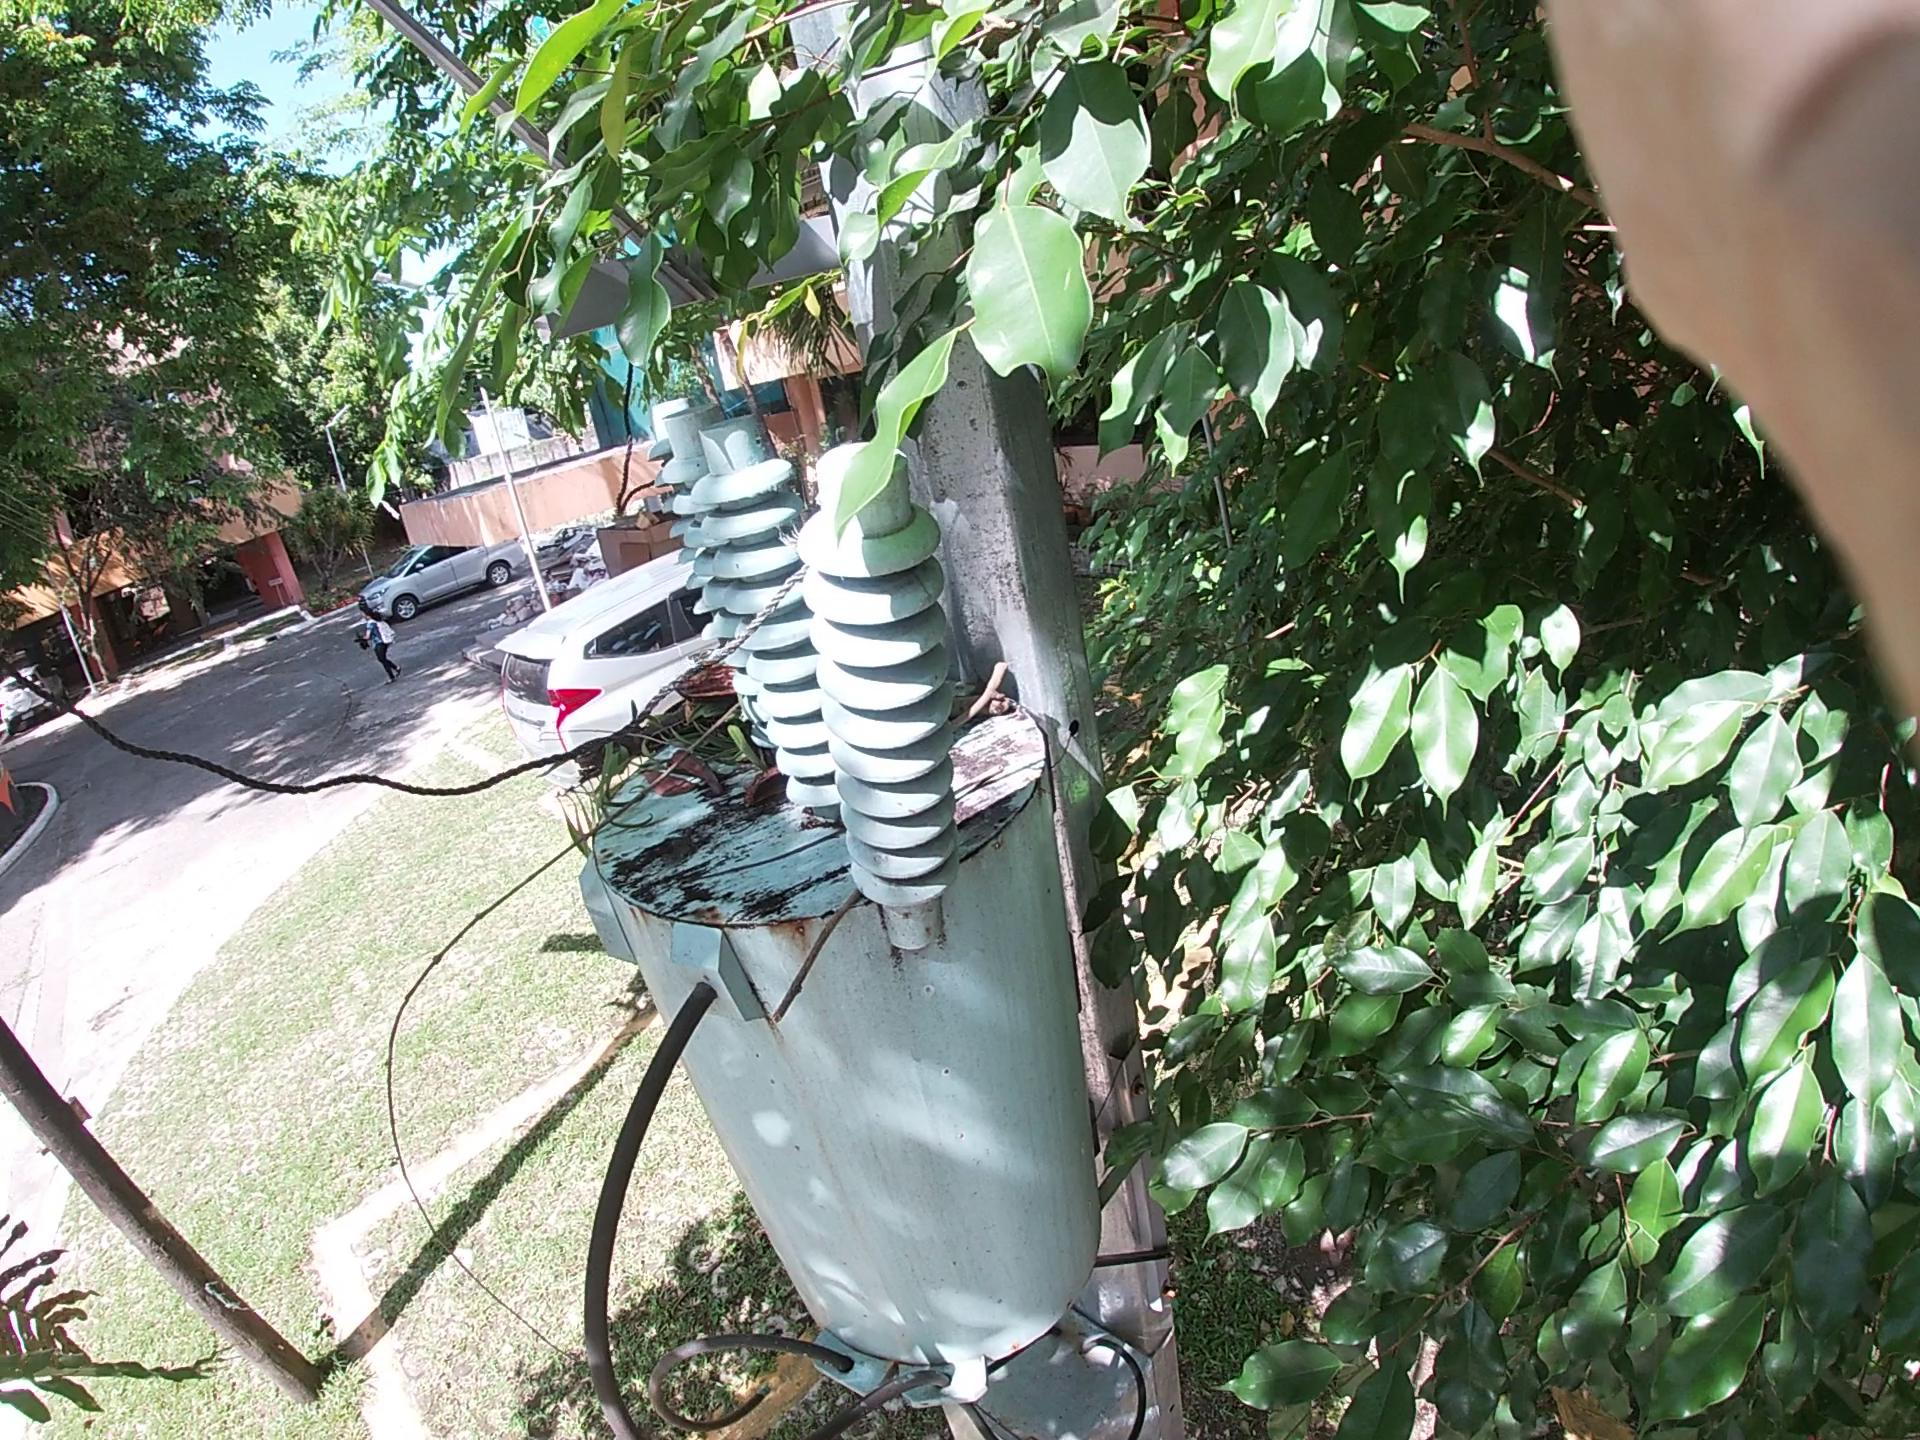branch with leaves: (561, 563, 813, 824)
leaf: (658, 706, 729, 849)
mahogany fruit: (665, 637, 759, 734)
tree branch: (351, 691, 765, 1234), (773, 820, 912, 1057), (910, 637, 1058, 777)
